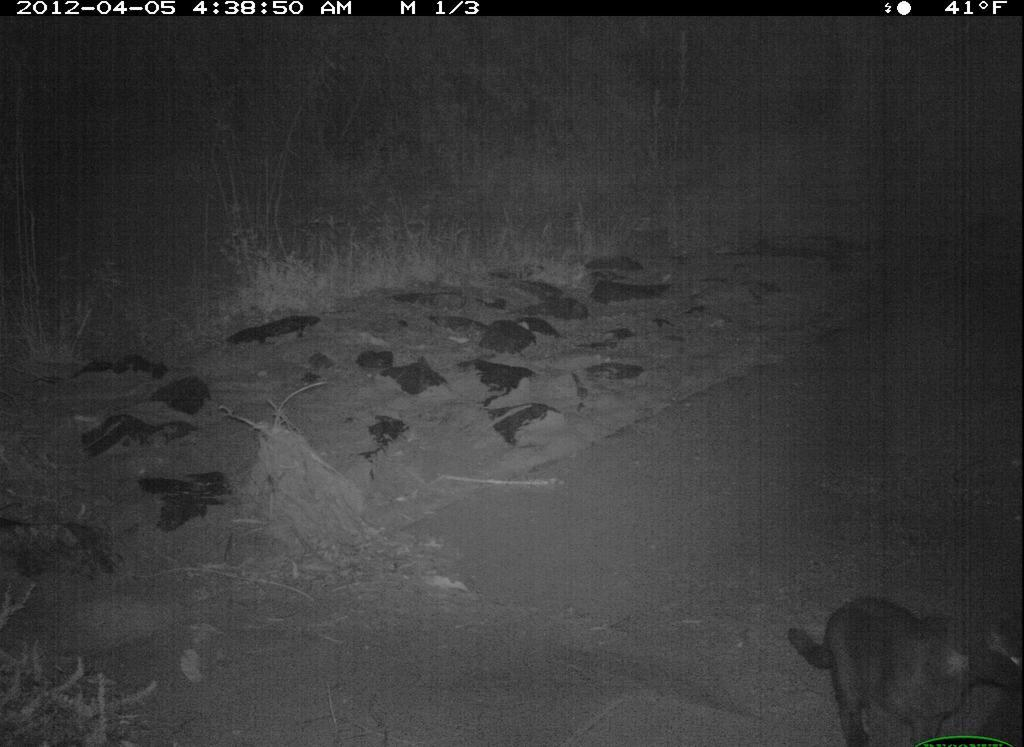cat: (783, 589, 1023, 747)
